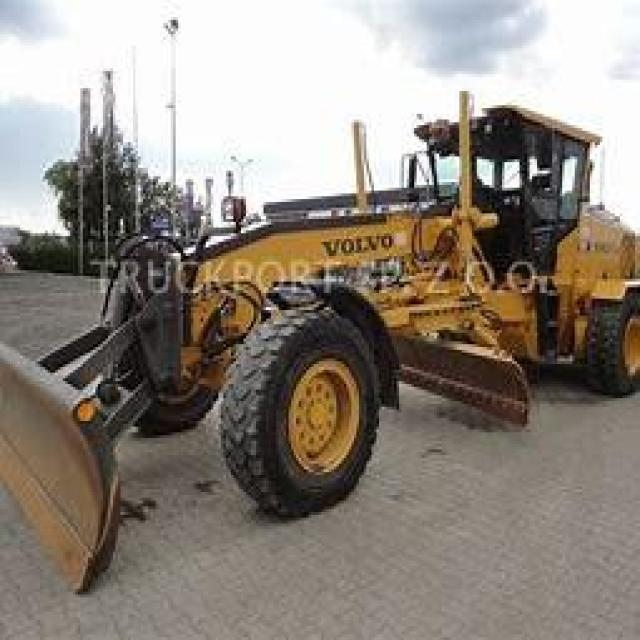buldozerpayloadergrader: (75, 77, 638, 529)
